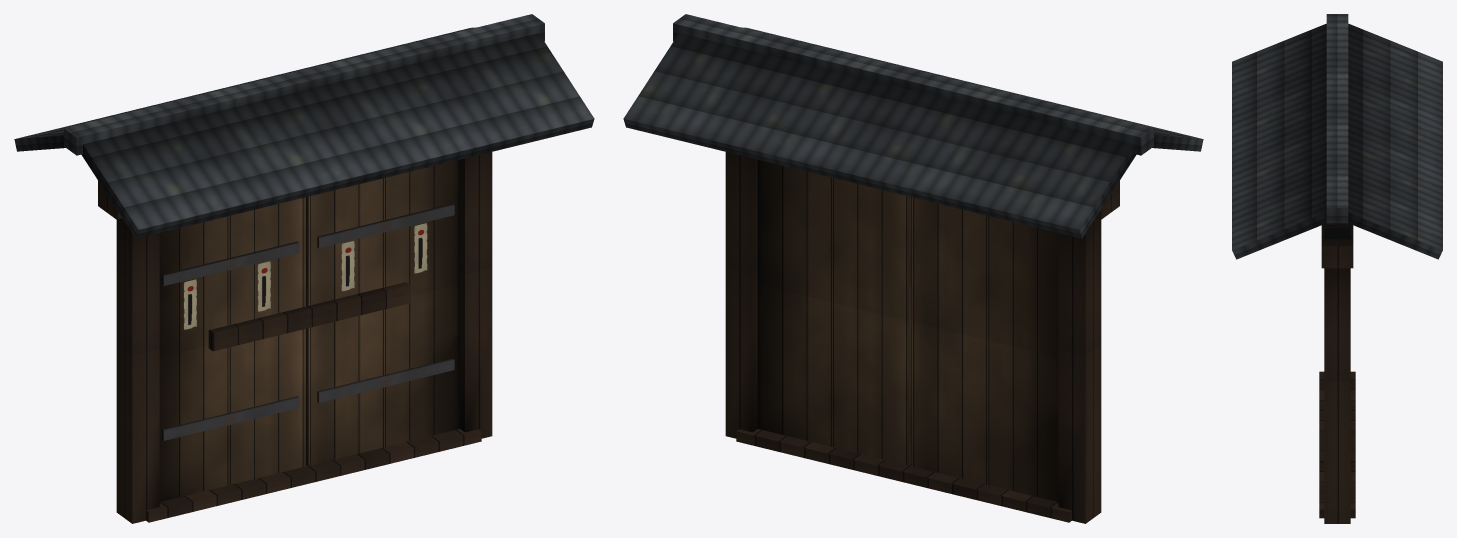
Rendered from shrine_gate.glb.
3 views of the same model, side by side, from view 1: azimuth 30°, elevation 25°; view 2: azimuth 150°, elevation 25°; view 3: azimuth 270°, elevation 25° (orthographic). The views are drawn at different scales.
Parts seen in each view (by area): view 1: shrine_gate; view 2: shrine_gate; view 3: shrine_gate.
Part boxes in pixels (box(x1,y1,x2,y2)): shrine_gate: box(14, 14, 594, 523); shrine_gate: box(623, 14, 1203, 523); shrine_gate: box(1232, 14, 1442, 523).
Size of the model in its own units: 3.8 by 3.09 by 1.74.
5 materials, 5 textured.
